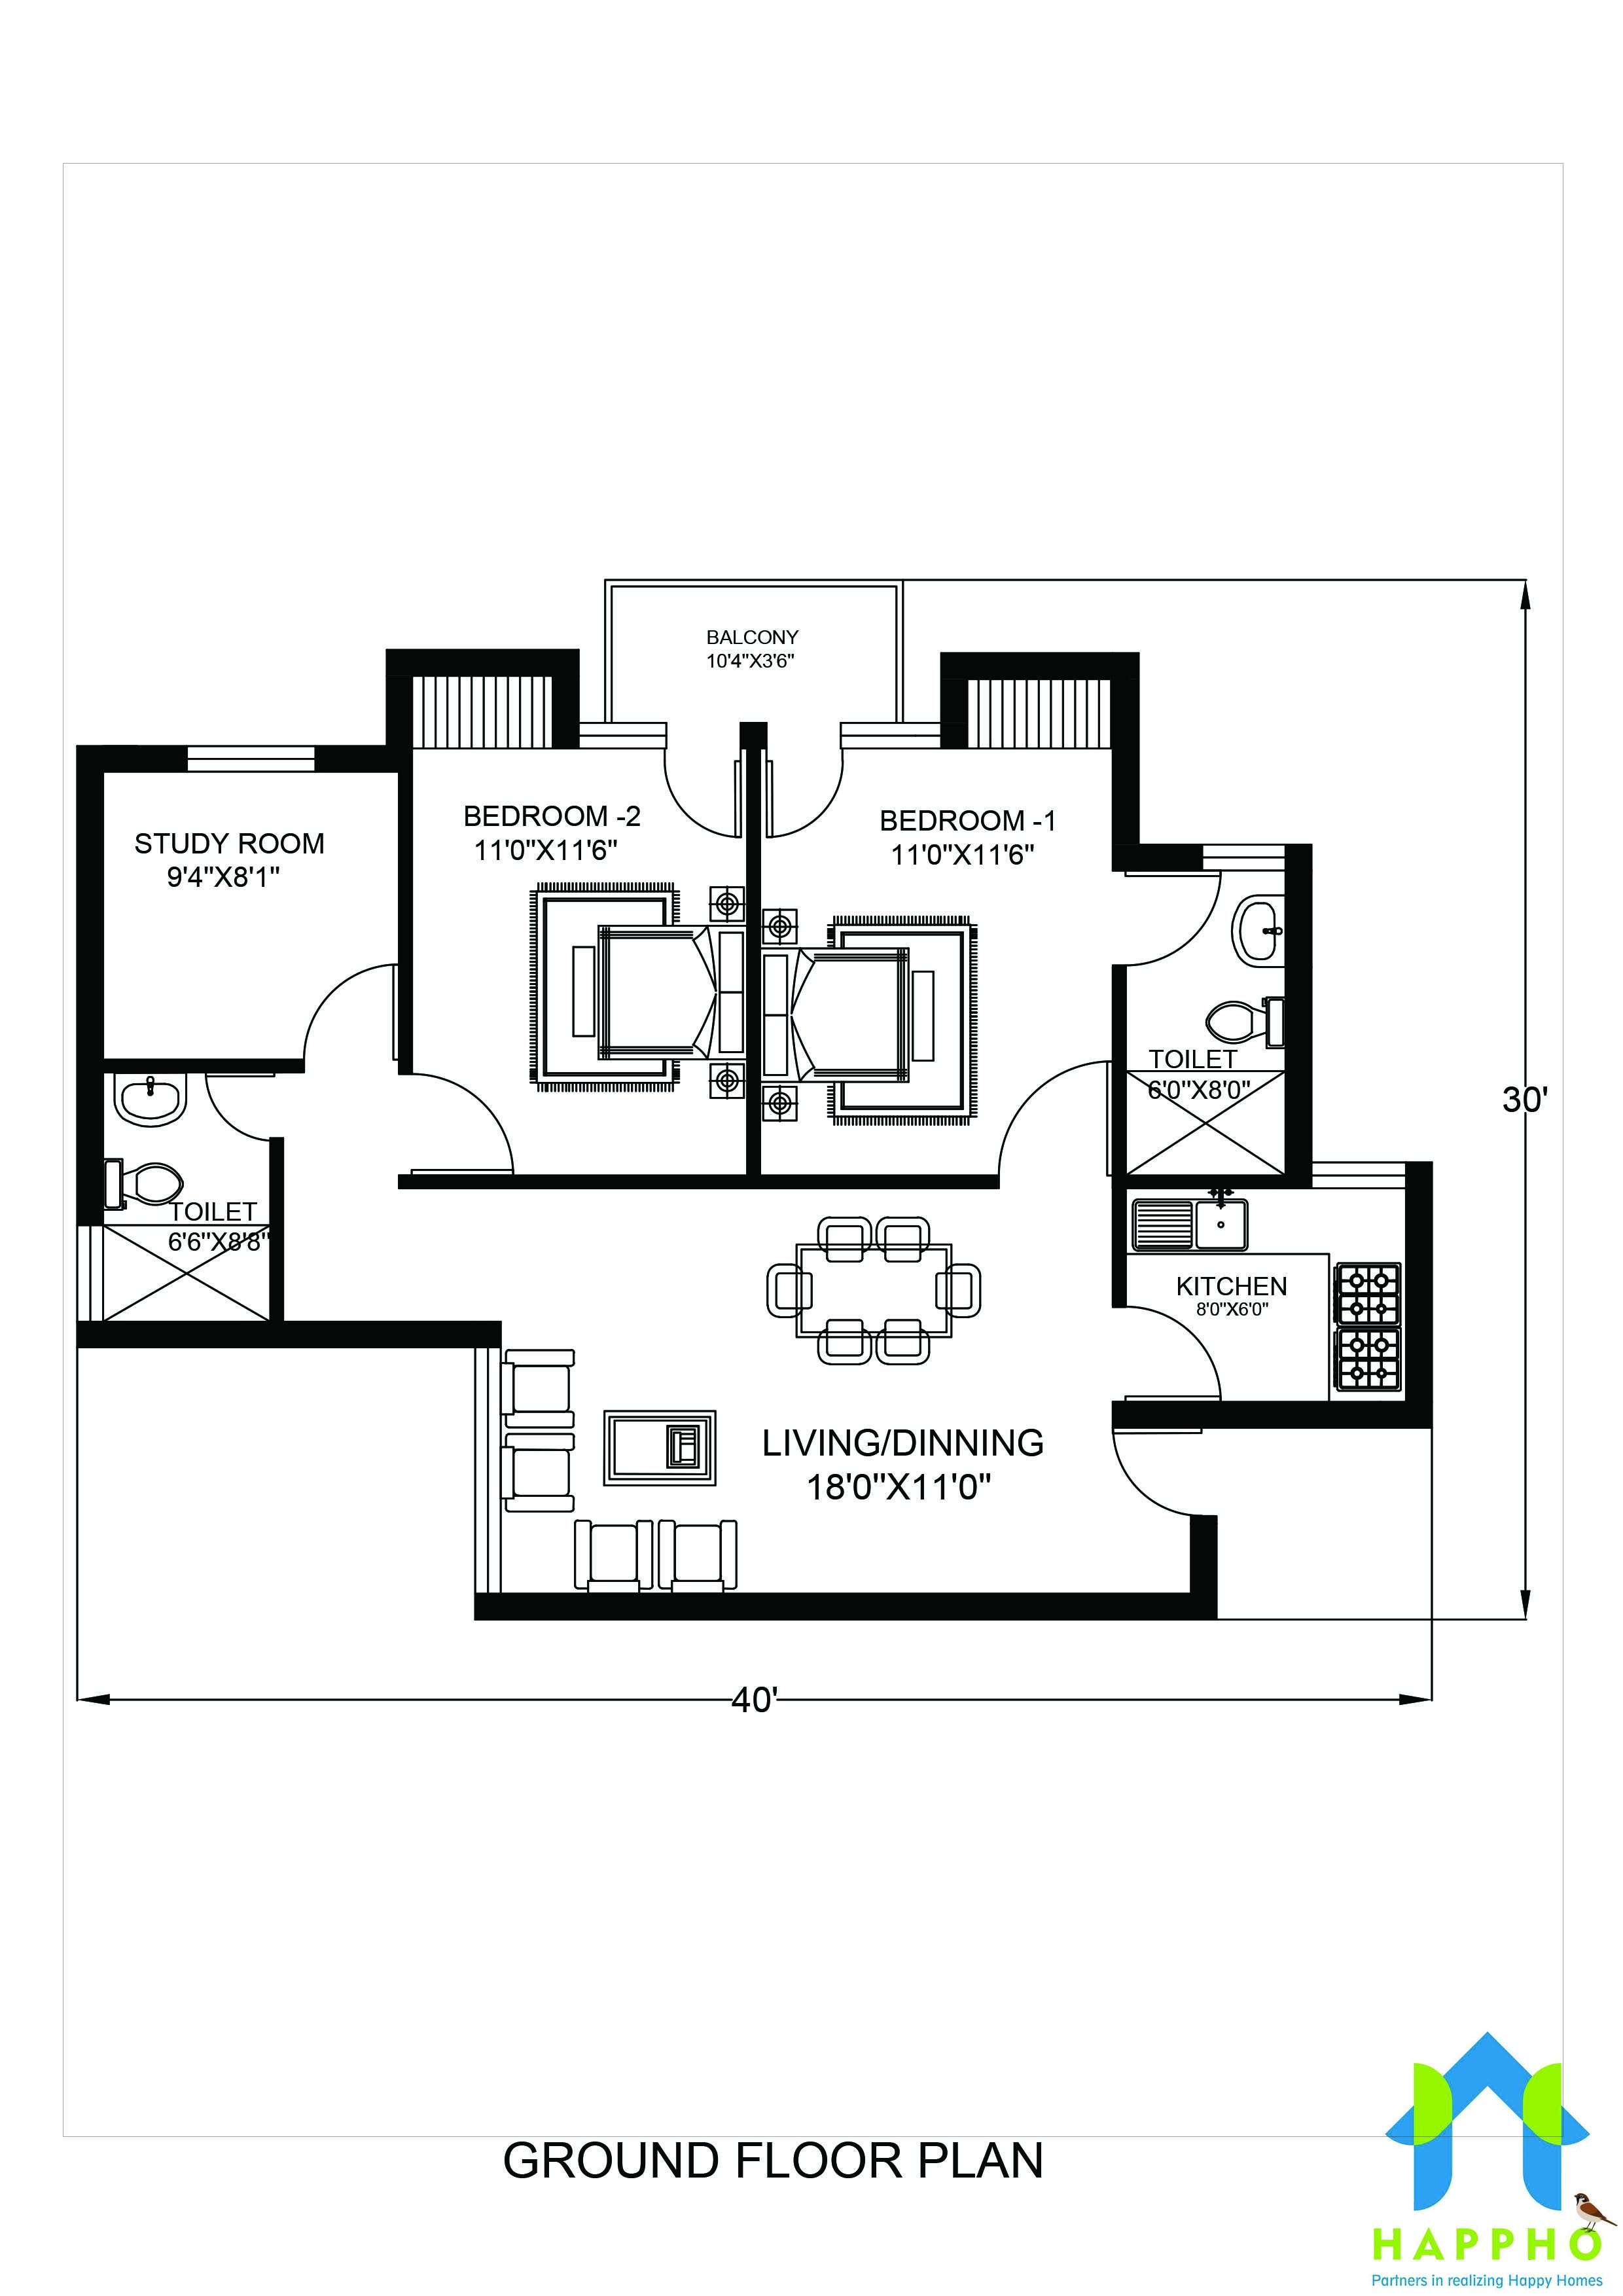window: (181, 740, 325, 778), (69, 1219, 112, 1328), (1307, 1156, 1410, 1196), (1198, 838, 1291, 878)
